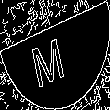M_N: (35, 24, 75, 86)
